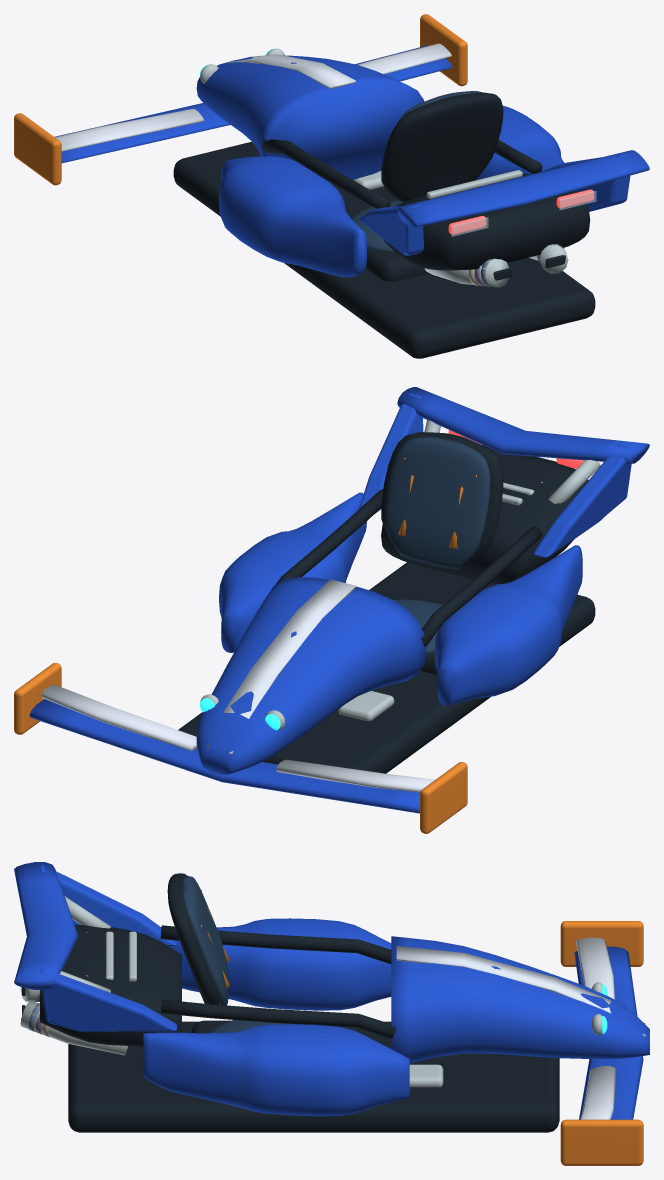
Rendered from comet.glb.
3 views of the same model, one above another, from view 1: azimuth 30°, elevation 25°; view 2: azimuth 150°, elevation 25°; view 3: azimuth 270°, elevation 25° (orthographic).
Parts seen in each view (by area): view 1: LOD0, ShowroomDetail; view 2: LOD0; view 3: LOD0.
Part boxes in pixels (<box>): LOD0: <box>14,14,649,358</box>; ShowroomDetail: <box>451,191,596,286</box>; LOD0: <box>14,387,649,833</box>; LOD0: <box>14,862,649,1165</box>.
Size of what is drawn, in the model's own units: 1.86 by 0.868 by 2.46.
